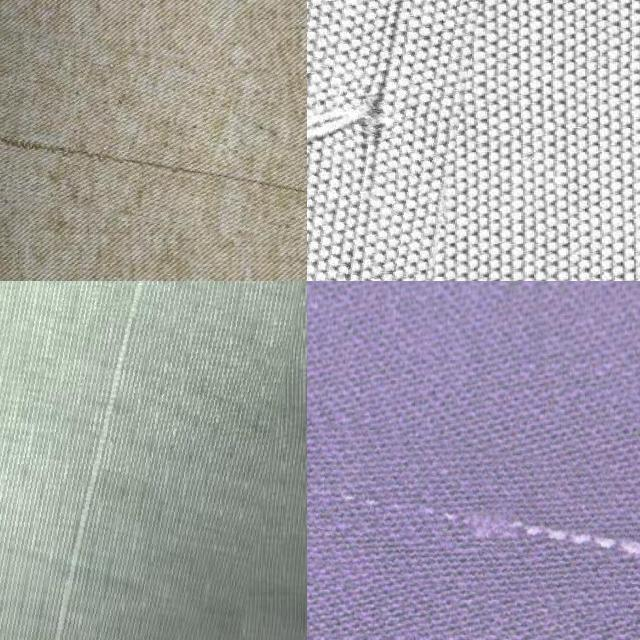stains: (0, 281, 307, 640), (0, 18, 307, 229), (307, 422, 640, 607), (307, 0, 488, 281)
